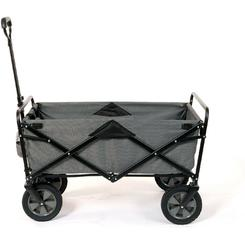Carts: (1, 16, 220, 226)
